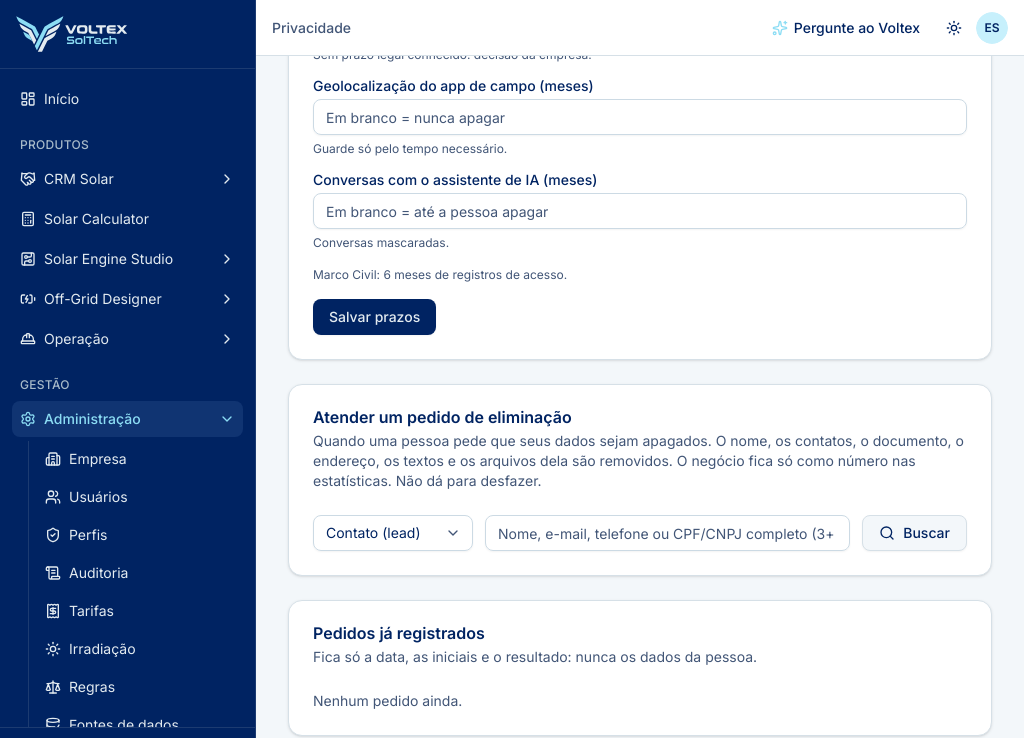
Test: Administração · Privacidade (LGPD) › pedido bloqueado por lei mostra o motivo e a data, sem apagar nada
(page scrolled)
Step 1. Select "Cliente (conta)" in the dropdown named "Tipo de cadastro" → (393, 533), box left=313, top=515, right=473, bottom=551
Step 2. Type "cliente" into the field named "Buscar pessoa" → (668, 533), box left=485, top=515, right=850, bottom=551
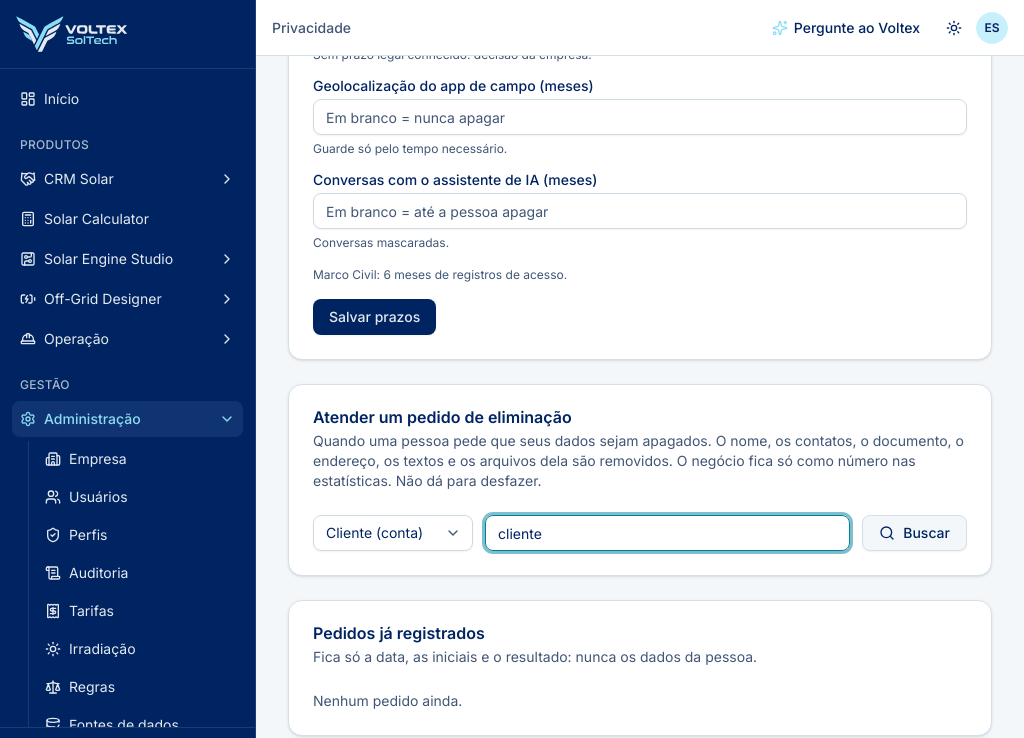
Step 3. Click the button "Buscar" → (915, 533), box left=862, top=515, right=967, bottom=551
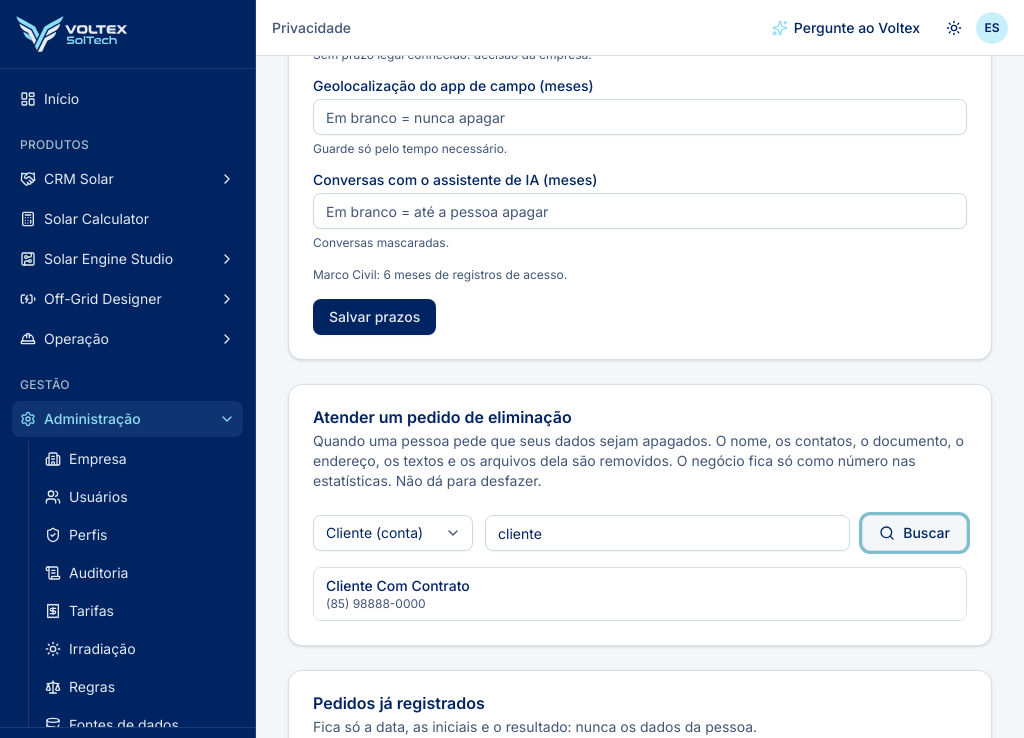
Step 4. Click the button "Cliente Com Contrato (85) 98888-0000" → (398, 586), box left=314, top=568, right=966, bottom=620
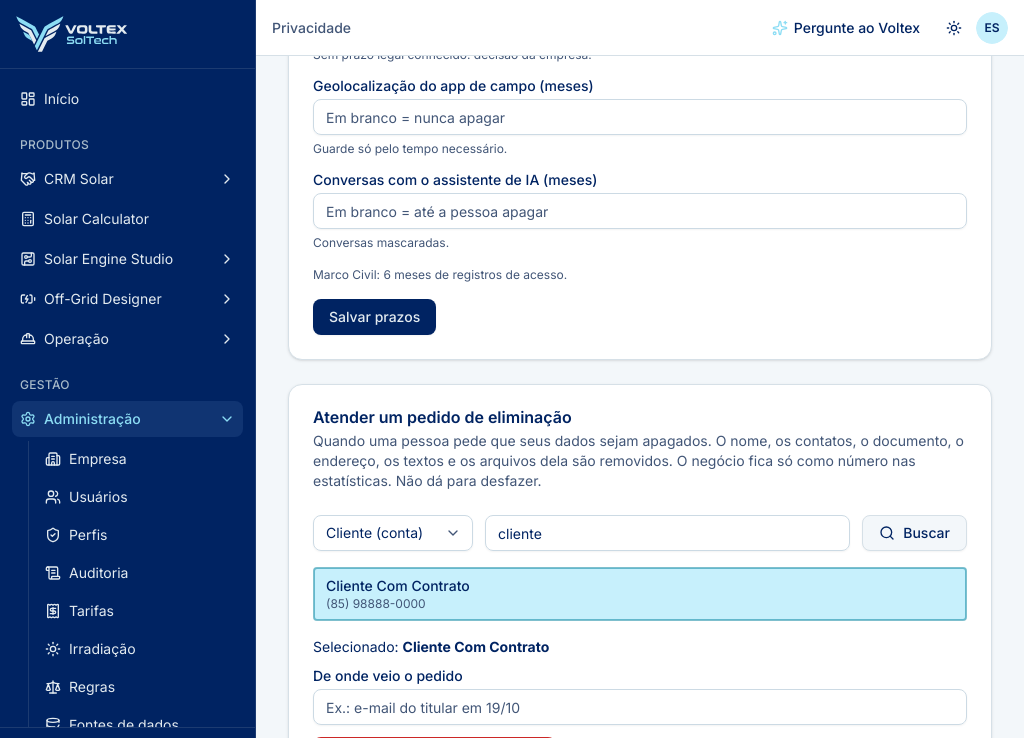
Step 5. Type "Pedido do titular" into the field labelled "De onde veio o pedido" → (640, 707), box left=313, top=689, right=967, bottom=725
(page scrolled)
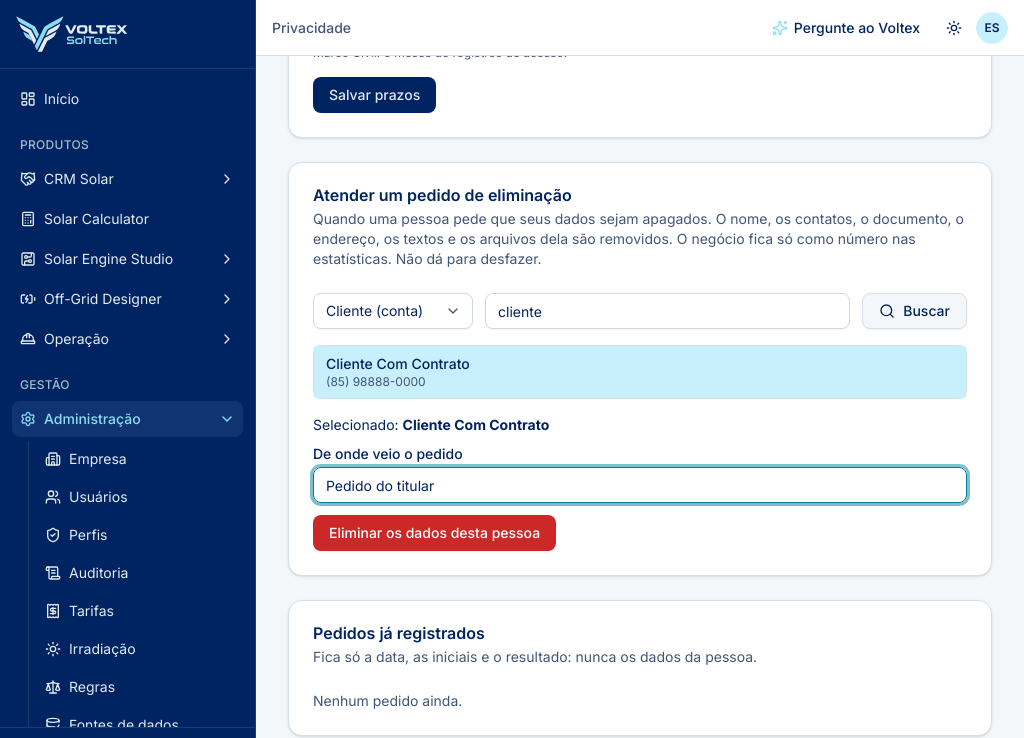
Step 6. Click the button "Eliminar os dados desta pessoa" → (435, 533), box left=313, top=515, right=556, bottom=551
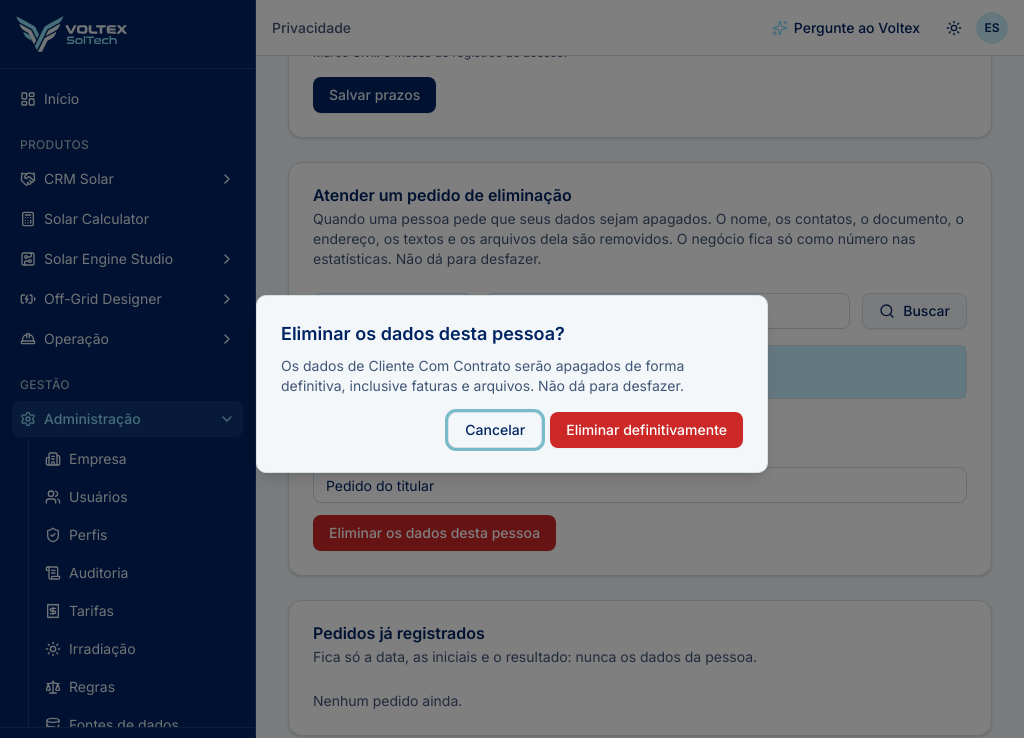
Step 7. Click the button "Eliminar definitivamente" → (647, 430), box left=550, top=412, right=743, bottom=448
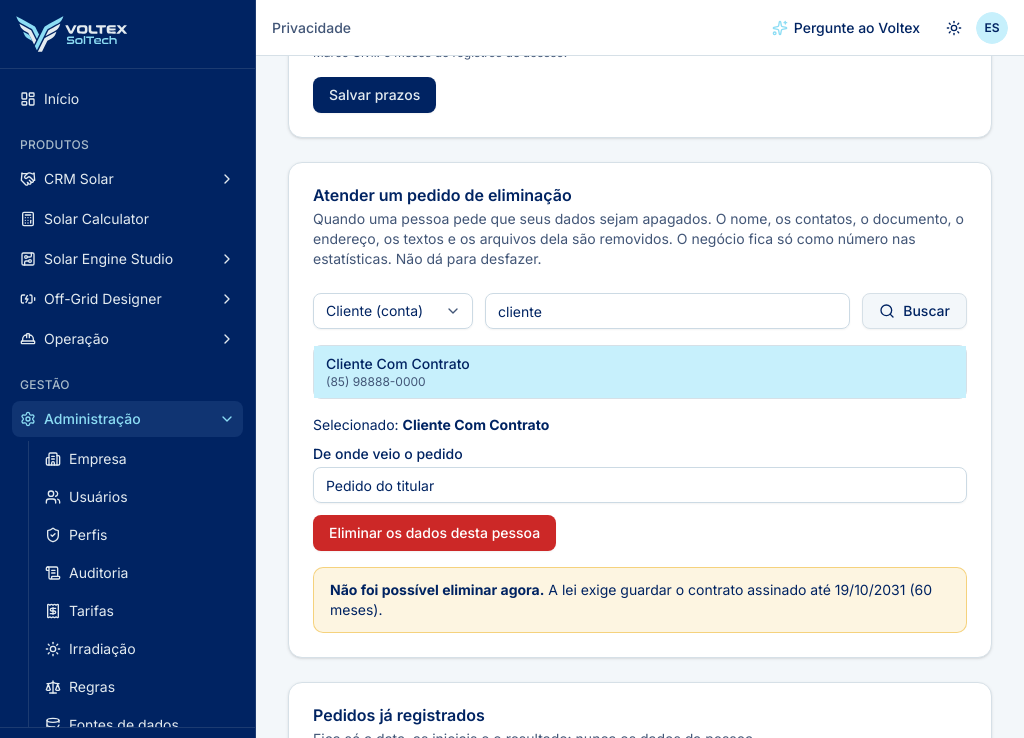
Now the text "A lei exige guardar o contrato assinado até 19/10/2031" is shown, box left=330, top=581, right=932, bottom=618
Now the text "Não foi possível eliminar agora." is shown, box left=330, top=581, right=544, bottom=598
